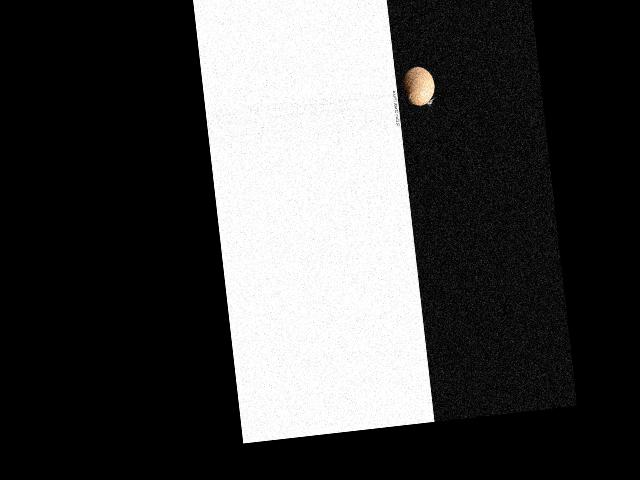egg: (400, 64, 435, 106)
